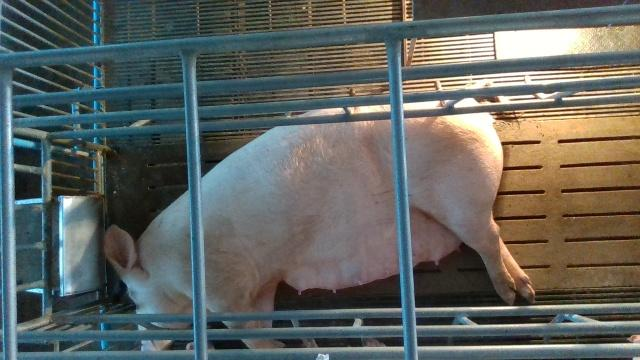sow-sleep-lactate: (103, 86, 533, 351)
